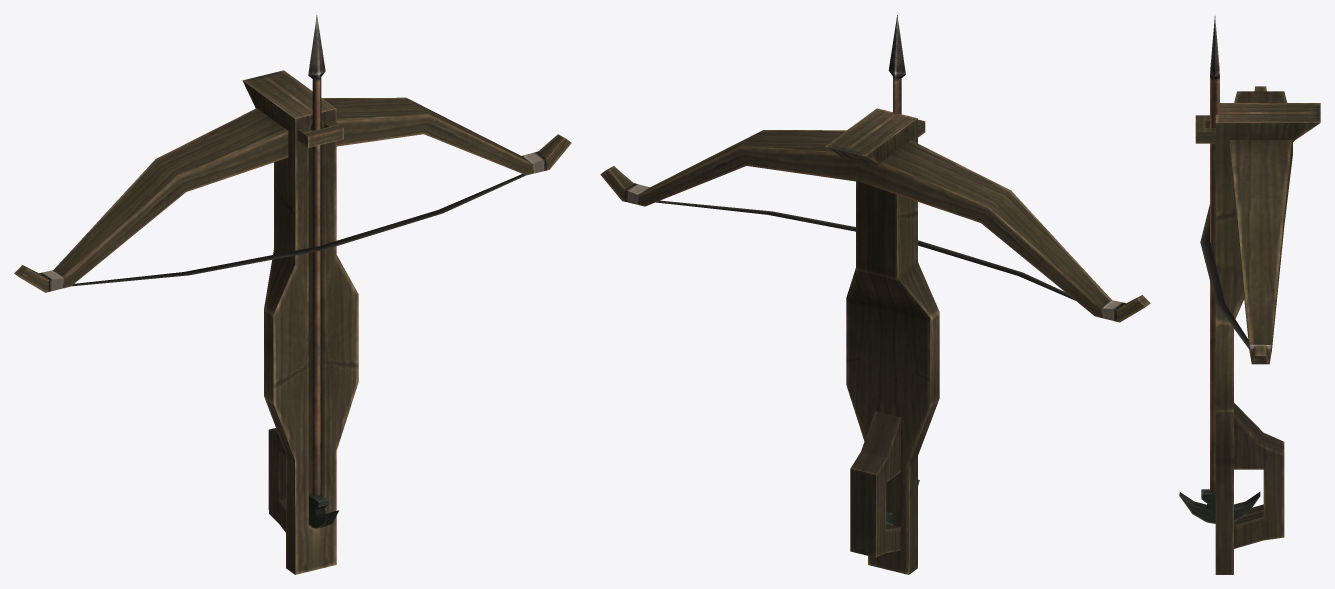
The model's file is Crossbow.FBX.
3 renders of one model, left to right at view 1: azimuth 30°, elevation 25°; view 2: azimuth 150°, elevation 25°; view 3: azimuth 270°, elevation 25°, orthographic.
Parts seen in each view (by area): view 1: Crossbow; view 2: Crossbow; view 3: Crossbow.
Boxes of the visible parts, x1,y1,x2,y2 form: Crossbow: [14, 15, 571, 574]; Crossbow: [600, 15, 1150, 574]; Crossbow: [1179, 16, 1320, 574].
Bounding box in the file's own units: 101 × 97.27 × 22.56.
Materials: 1 (1 with a texture image).
